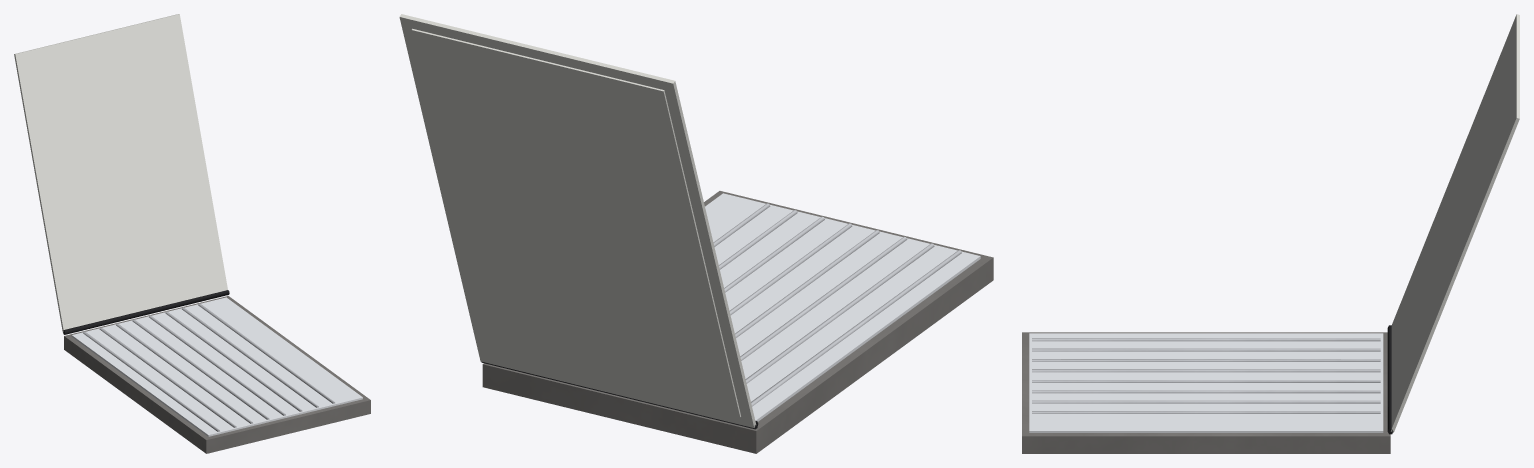
The model's file is rover27_rover_radiator_m_open.glb.
The picture shows the model from 3 angles, left to right: view 1: azimuth 30°, elevation 25°; view 2: azimuth 150°, elevation 25°; view 3: azimuth 270°, elevation 25°; orthographic projection. The views are drawn at different scales.
Visible parts, largest first — view 1: cover, radiator_panel, tray, loop_pipes, hinge; view 2: cover, radiator_panel, tray, loop_pipes; view 3: radiator_panel, cover, loop_pipes, tray, hinge.
Part boxes in pixels (left/top/right/bottom): cover: left=14, top=14, right=227, bottom=332; radiator_panel: left=71, top=297, right=362, bottom=436; tray: left=64, top=296, right=370, bottom=453; loop_pipes: left=83, top=303, right=334, bottom=431; hinge: left=63, top=290, right=229, bottom=334; cover: left=399, top=14, right=756, bottom=427; radiator_panel: left=705, top=193, right=980, bottom=421; tray: left=482, top=191, right=993, bottom=453; loop_pipes: left=713, top=203, right=961, bottom=406; radiator_panel: left=1029, top=333, right=1383, bottom=432; cover: left=1391, top=14, right=1519, bottom=432; loop_pipes: left=1032, top=338, right=1380, bottom=413; tray: left=1022, top=332, right=1390, bottom=453; hinge: left=1387, top=325, right=1393, bottom=434.
Bounding box in the file's own units: 1 × 1.51 × 2.03.
Materials: 5 (2 with a texture image).
